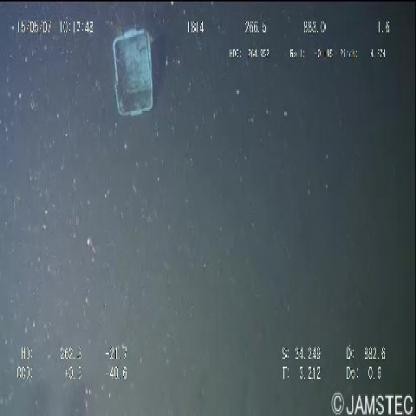Rác: (104, 15, 157, 124)
